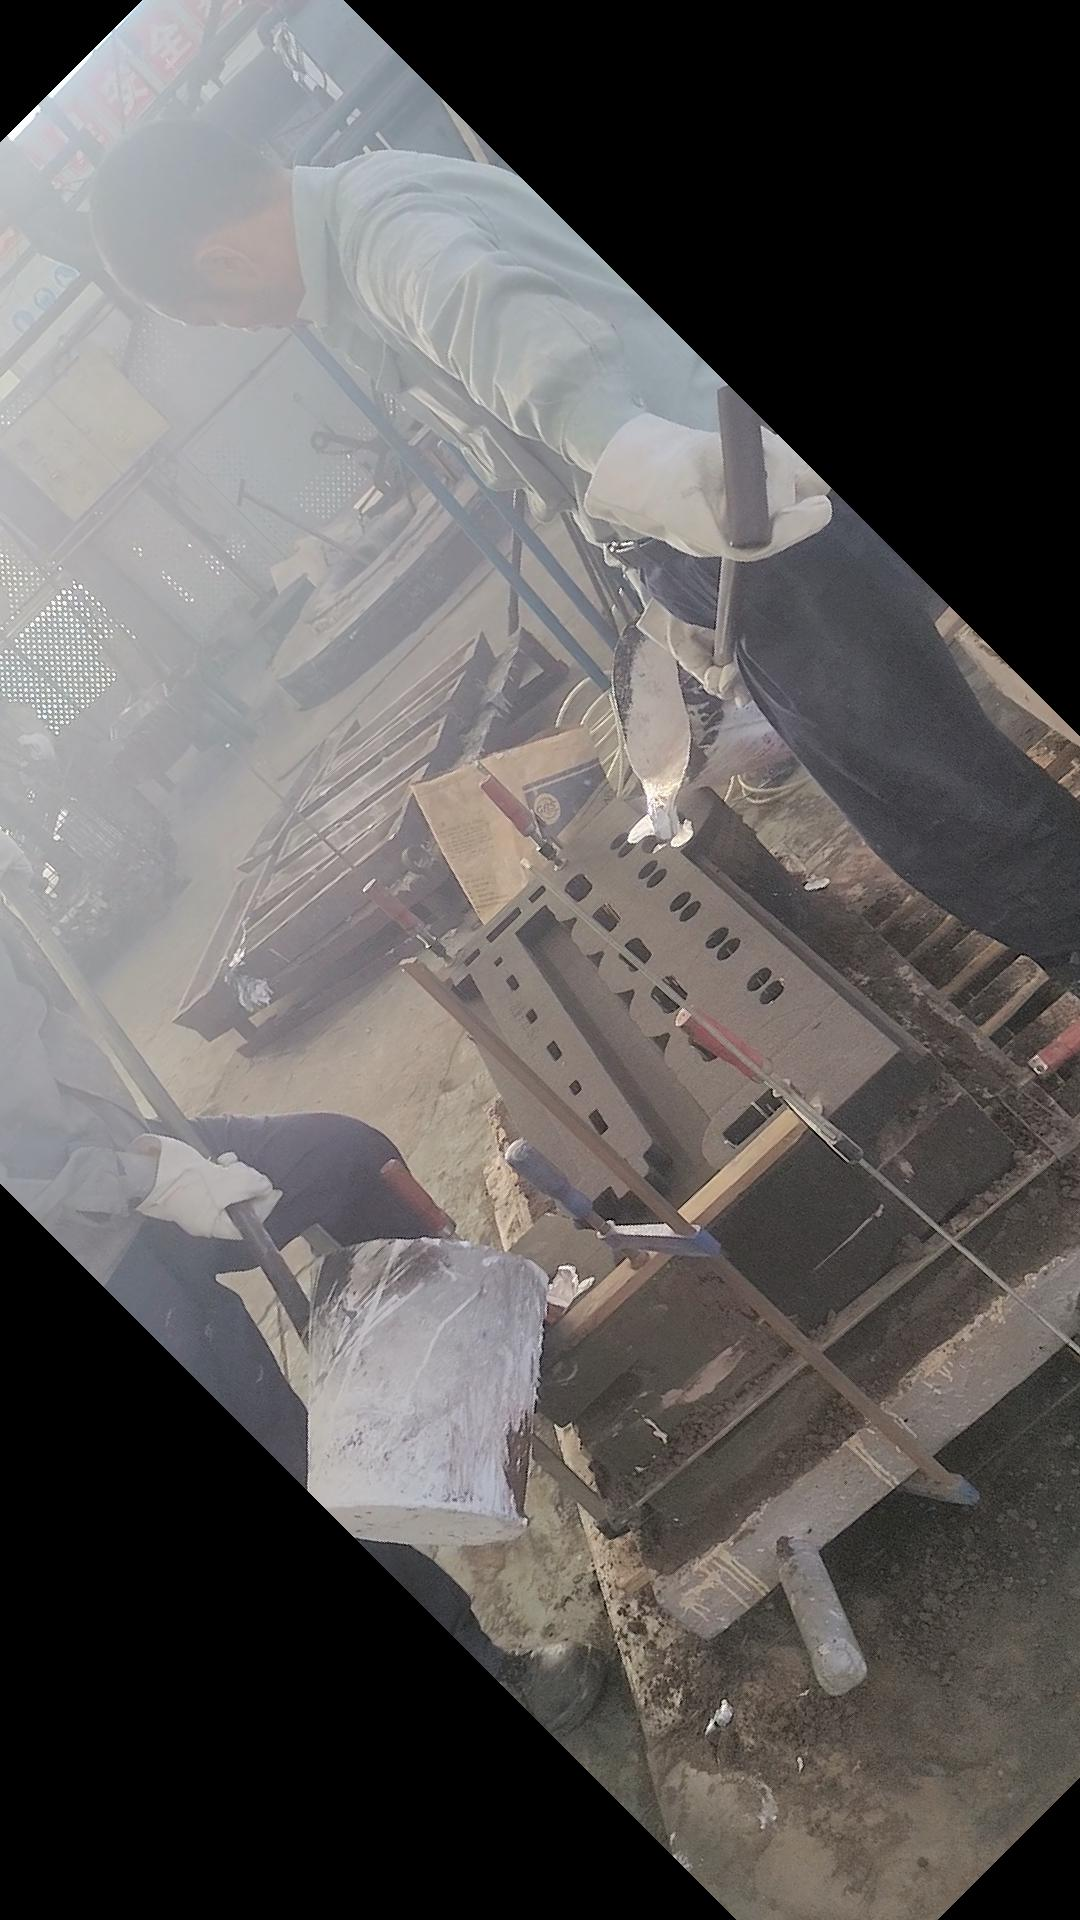pouring hole: (516, 1266, 585, 1327), (637, 808, 688, 855)
